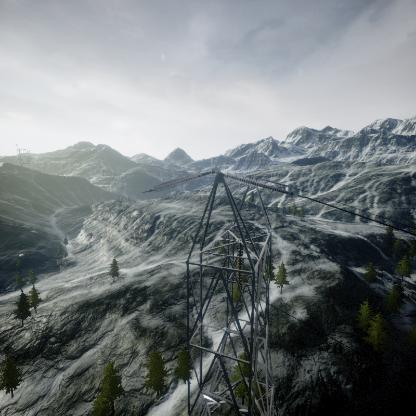insulator: (219, 170, 293, 198), (144, 169, 215, 193), (236, 248, 245, 290)
